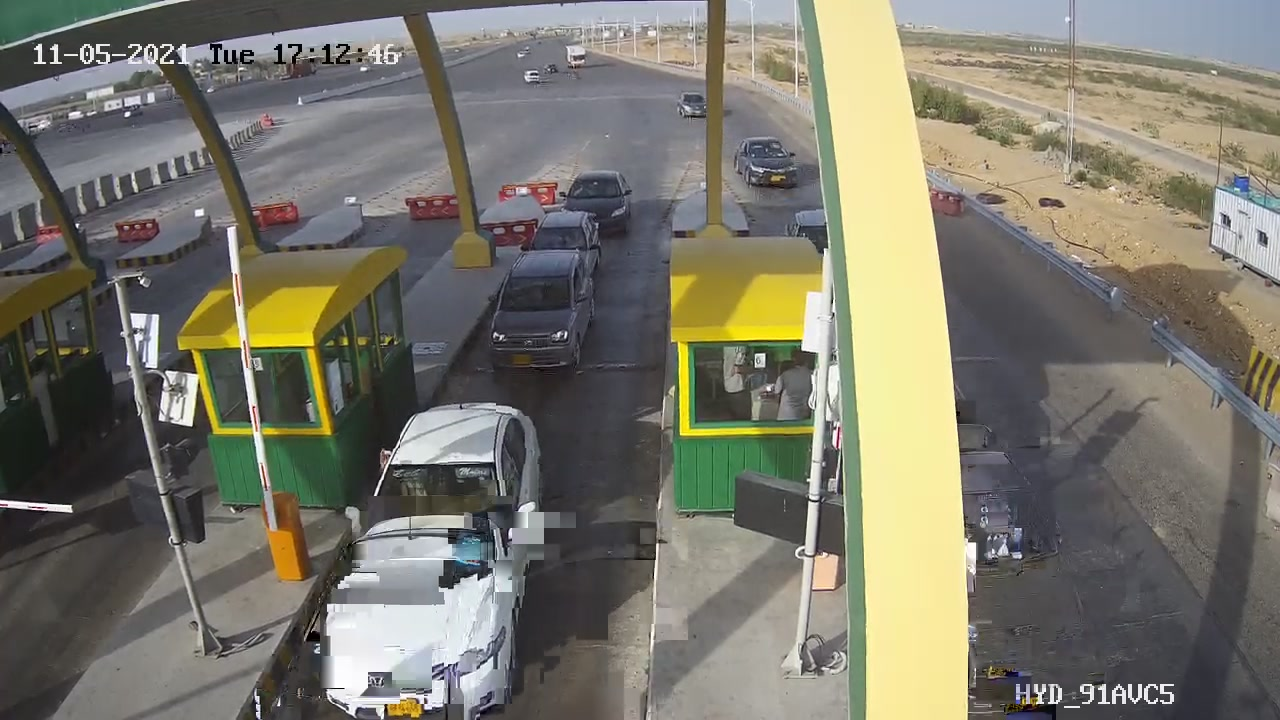F1: (478, 236, 609, 391)
